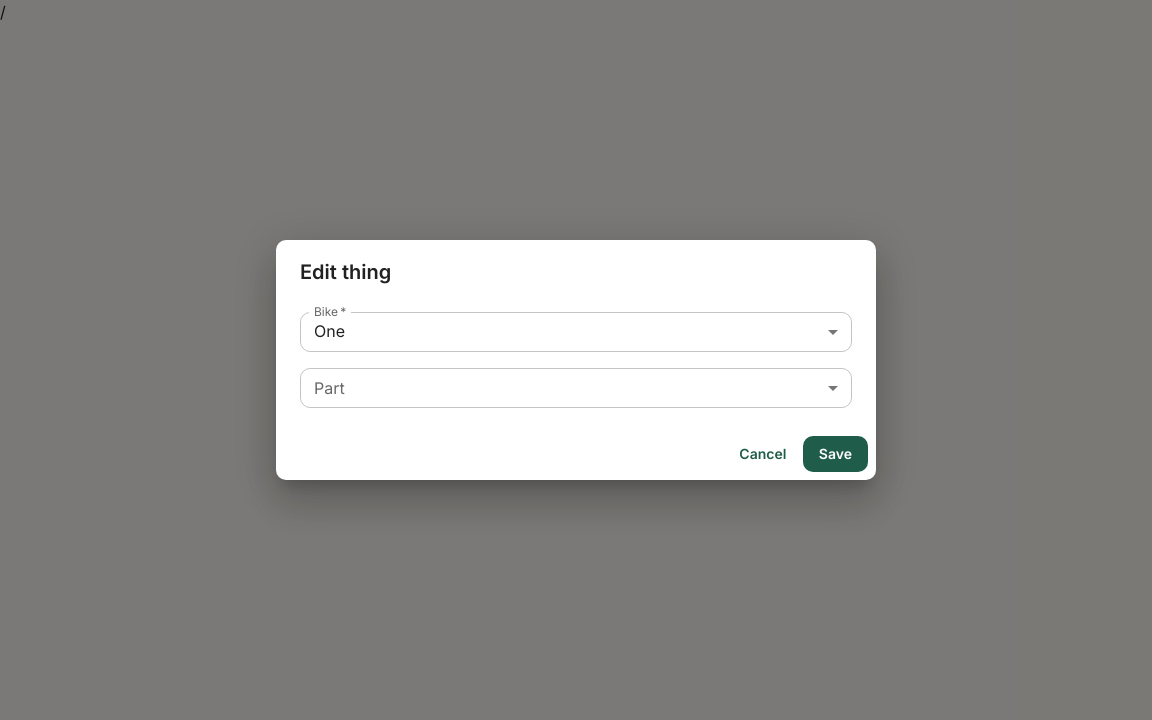
Scenario: EntityFormDialog › select options can be a function of the current values
Click the dropdown named "Part" at coordinates (576, 388), box [300,368,852,408]
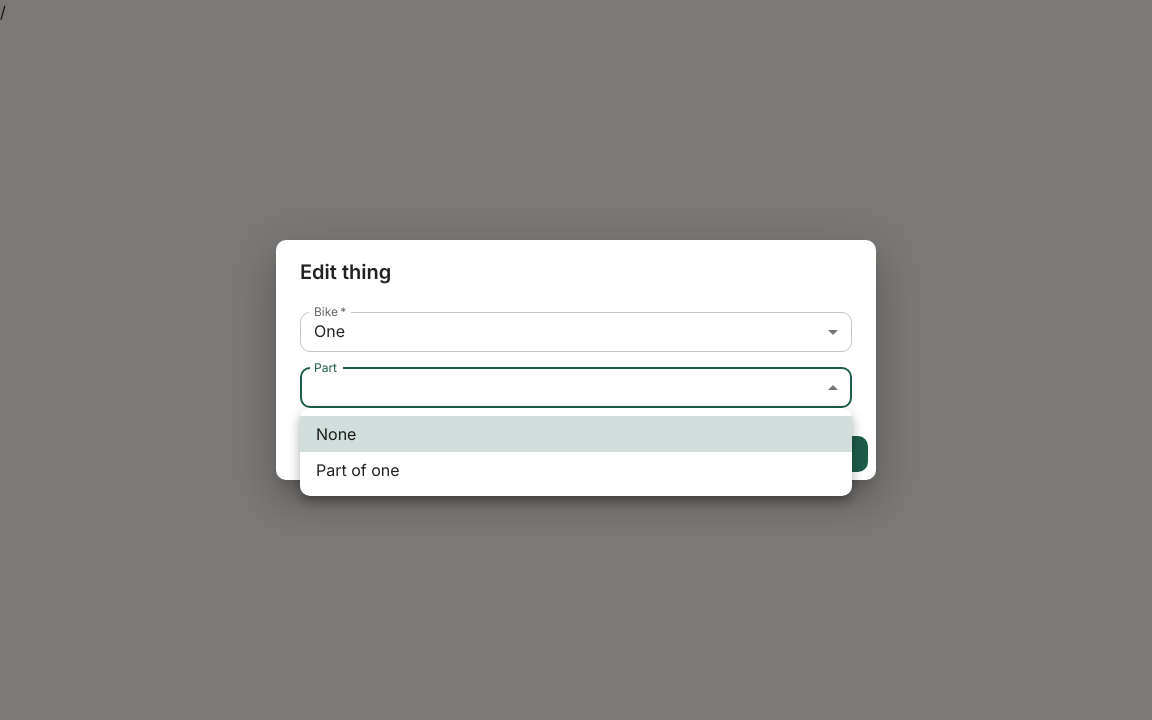
Check: the option "Part of one" is shown, box [316,460,400,480]
